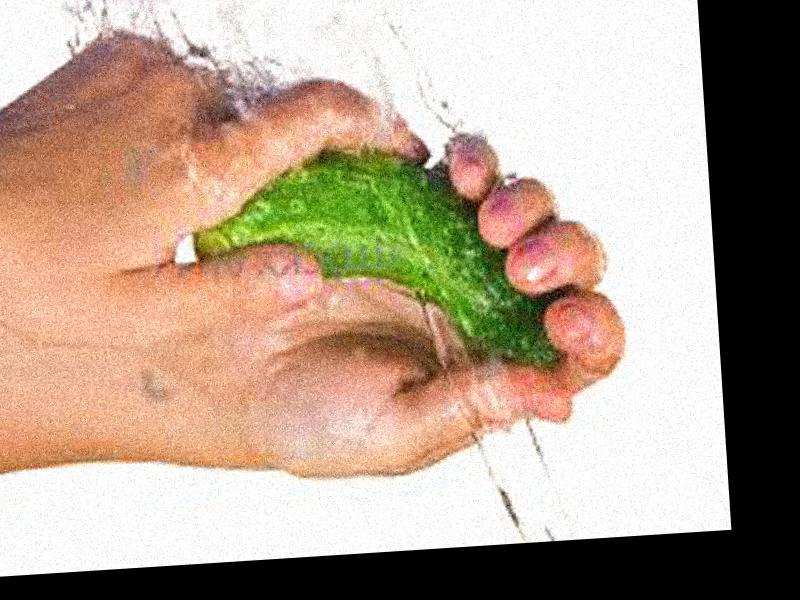Cucumber: (185, 133, 562, 389)
